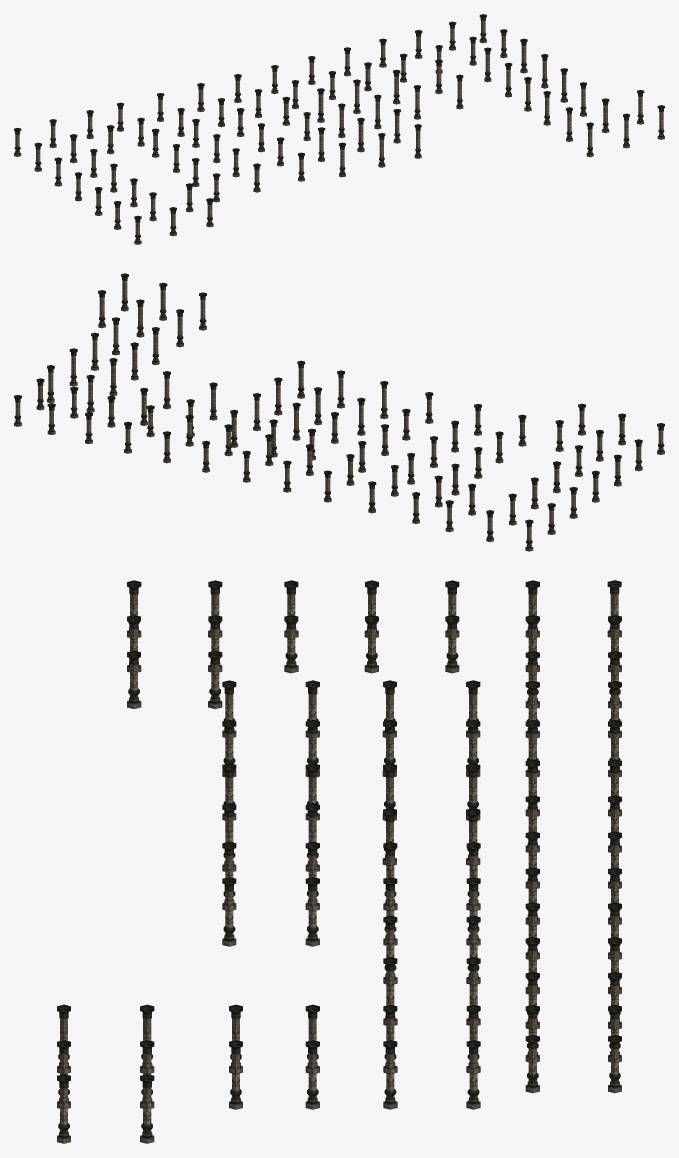
File: Old_PhoenixCastle_Hallway_destruct_wall03.FBX
3 views of the same model, one above another, from view 1: azimuth 30°, elevation 25°; view 2: azimuth 150°, elevation 25°; view 3: azimuth 270°, elevation 25° (orthographic). The views are drawn at different scales.
Parts seen in each view (by area): view 1: Object041; view 2: Object041; view 3: Object041.
Part boxes in pixels (<box>): Object041: <box>14,14,664,244</box>; Object041: <box>14,273,664,551</box>; Object041: <box>57,580,621,1143</box>.
Size of the model in its own units: 9943 by 581 by 4741.
Materials: 1 (1 with a texture image).
